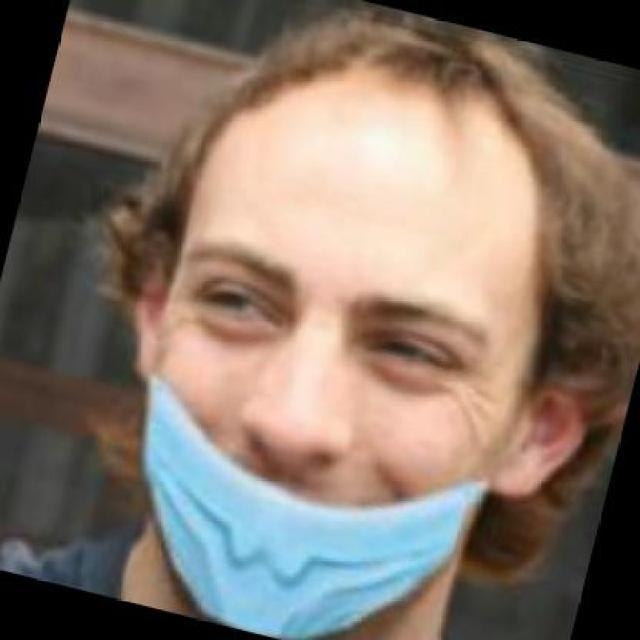hairnet: (81, 84, 577, 638)
